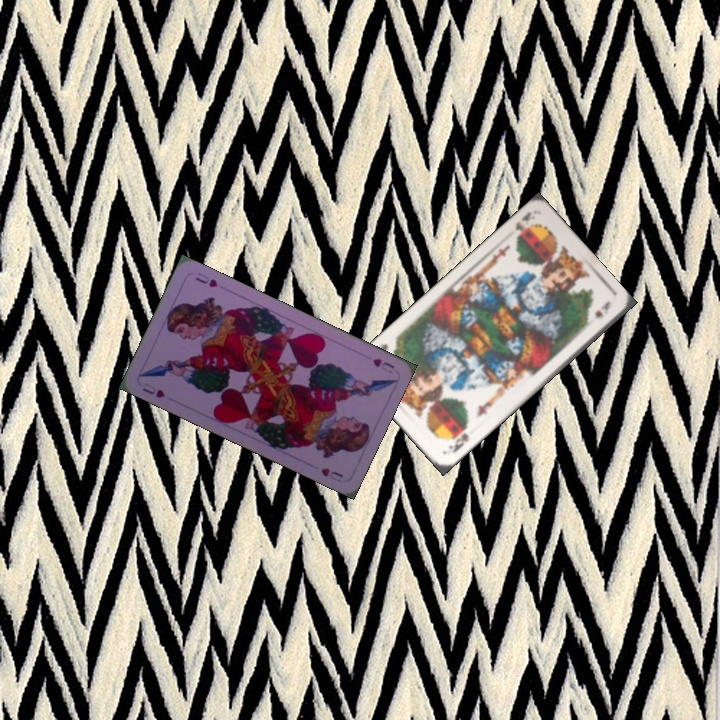HU: (138, 379, 168, 401), (369, 354, 397, 373)
SK: (511, 207, 536, 241), (445, 428, 471, 456)
